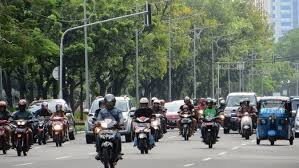motor: (94, 119, 122, 168), (132, 114, 154, 152), (12, 119, 31, 156), (200, 114, 219, 147), (50, 114, 66, 146), (178, 113, 195, 141)
